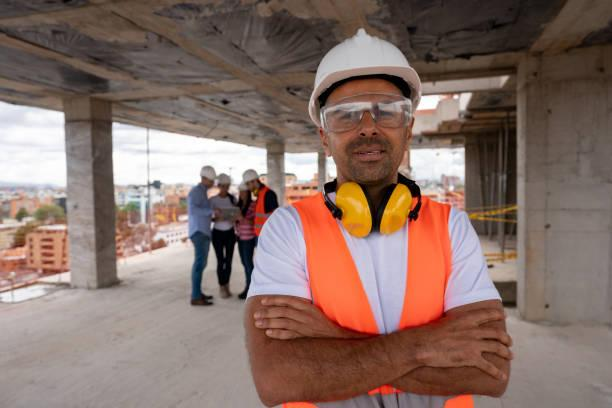goggle: (308, 89, 425, 140)
helmet: (302, 16, 434, 132)
vest: (281, 190, 483, 408)
